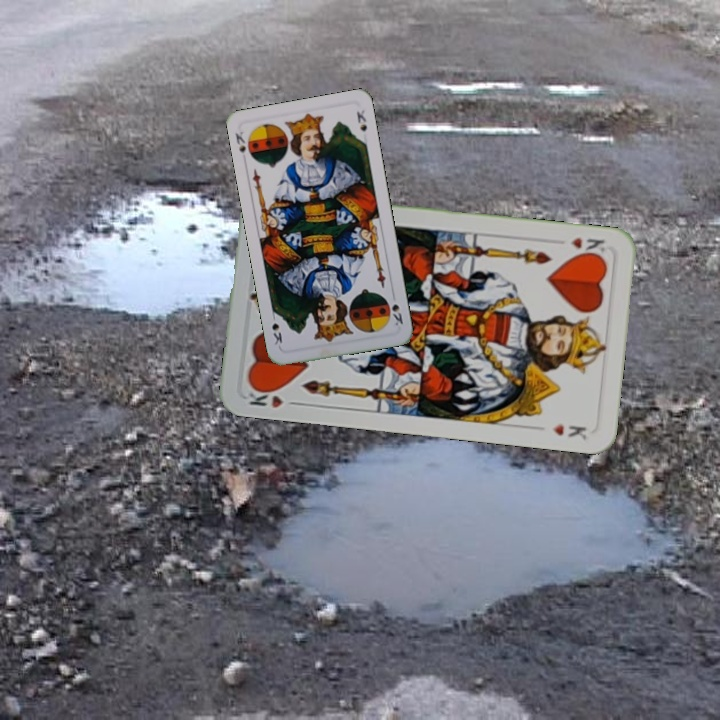HK: (243, 382, 302, 411), (567, 233, 608, 260)
SK: (388, 289, 406, 328), (231, 128, 248, 156)
